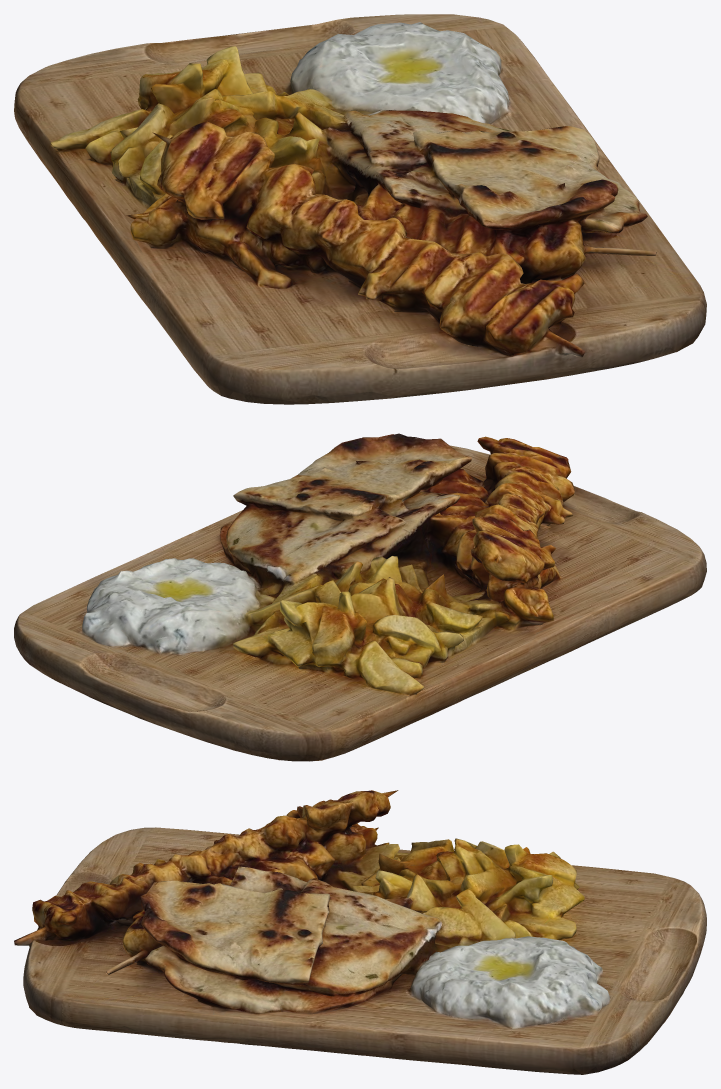
The model's file is souvlaki-grego.glb.
3 views of the same model, one above another, from view 1: azimuth 30°, elevation 25°; view 2: azimuth 150°, elevation 25°; view 3: azimuth 270°, elevation 25° (orthographic). The views are drawn at different scales.
Visible parts, largest first — view 1: Object_4; view 2: Object_4; view 3: Object_4.
Boxes of the visible parts, box(x1,y1,x2,y2) form: Object_4: box(14, 14, 706, 404); Object_4: box(14, 433, 706, 761); Object_4: box(14, 790, 706, 1074).
Bounding box in the file's own units: 0.2401 × 0.0565 × 0.3137.
Materials: 2 (1 with a texture image).
